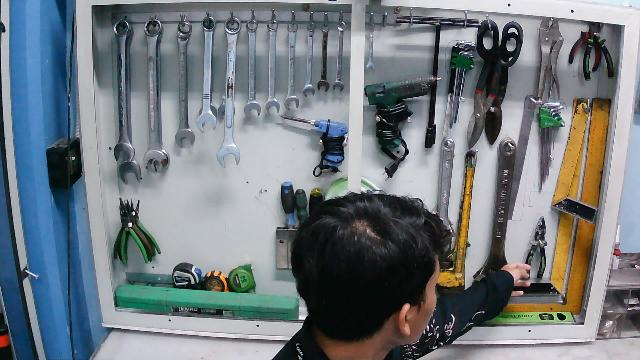tang_kombinasi: (522, 214, 549, 279)
